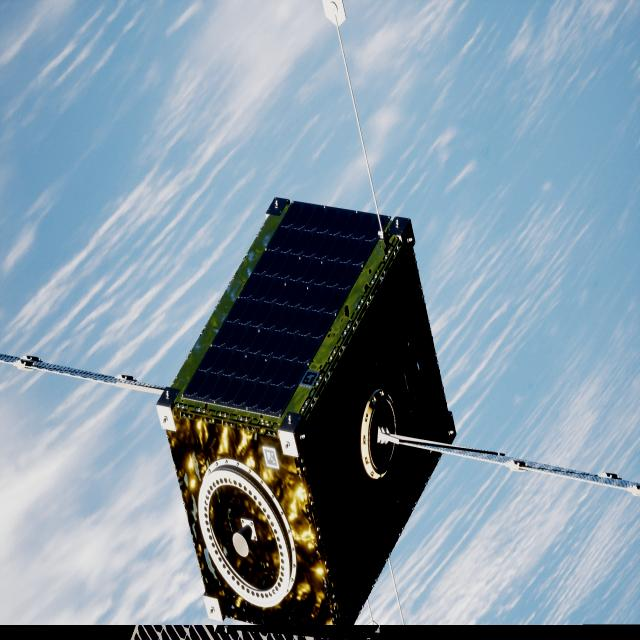satellite: (155, 199, 490, 633)
